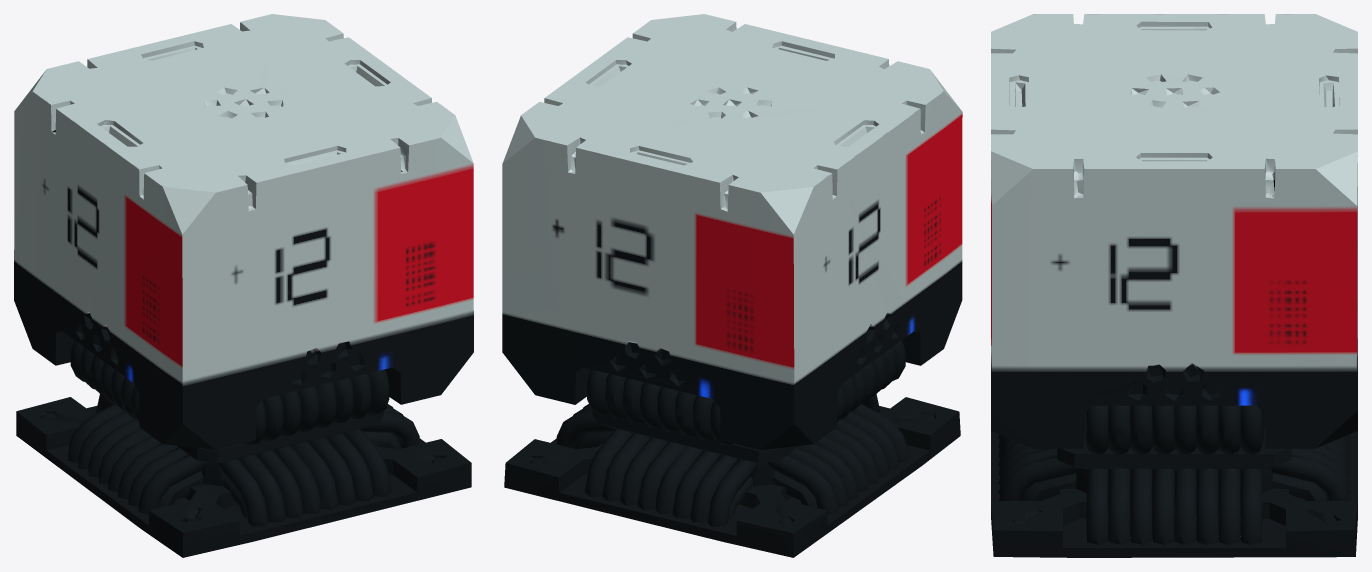
The model's file is pawn.glb.
The picture shows the model from 3 angles, left to right: view 1: azimuth 30°, elevation 25°; view 2: azimuth 150°, elevation 25°; view 3: azimuth 270°, elevation 25°; orthographic projection. The views are drawn at different scales.
Visible parts, largest first — view 1: pawn; view 2: pawn; view 3: pawn.
Part boxes in pixels (x1,y1,x2,y2): pawn: (14,14,473,557); pawn: (502,14,962,557); pawn: (991,14,1357,557).
Size of the model in its own units: 50 by 58.47 by 50.
Materials: 1 (1 with a texture image).
